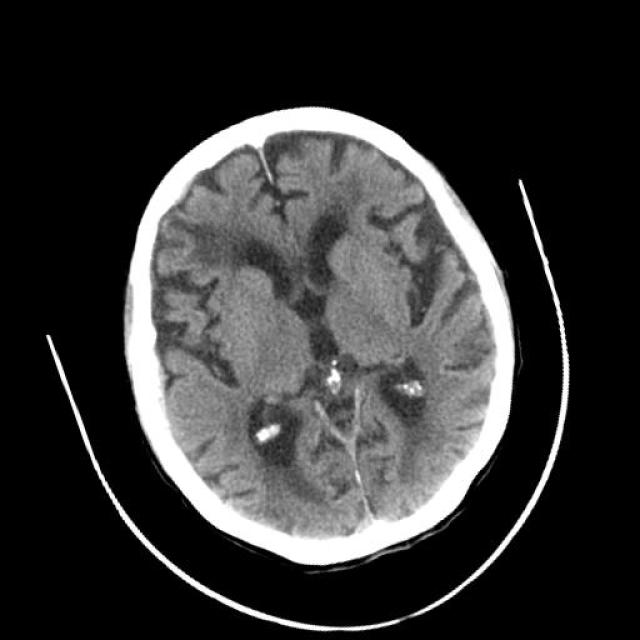Subdural: (299, 380, 425, 556)
